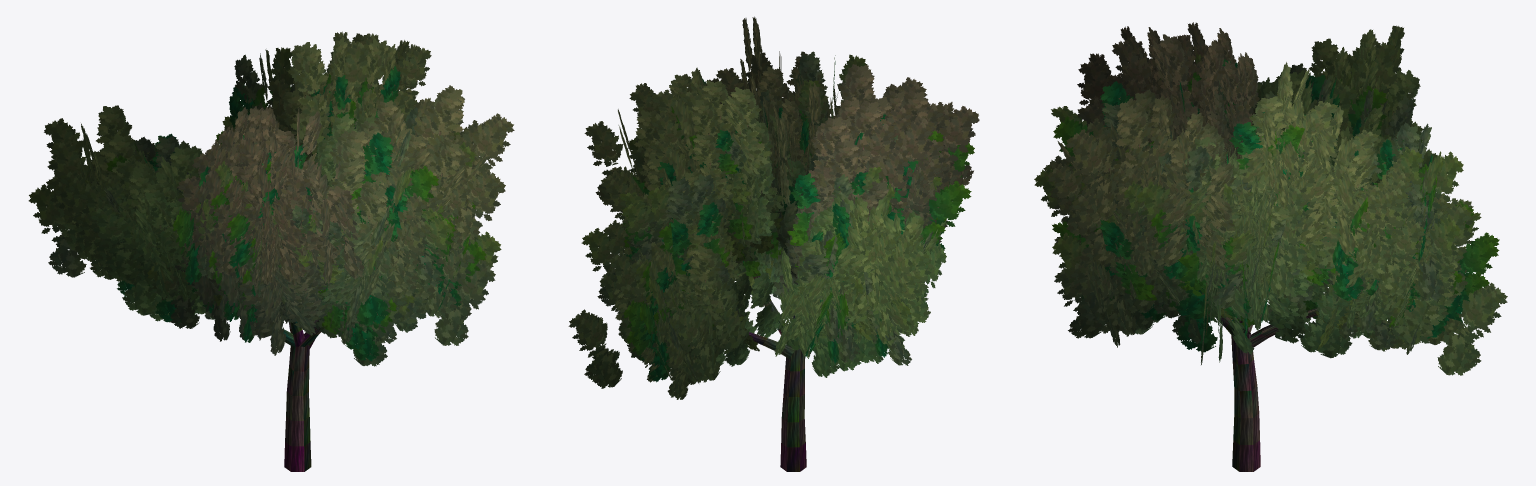
The model's file is nat_oak_c_LOD1.glb.
3 renders of one model, left to right at view 1: azimuth 30°, elevation 25°; view 2: azimuth 150°, elevation 25°; view 3: azimuth 270°, elevation 25°, orthographic. The views are drawn at different scales.
Visible parts, largest first — view 1: nat_oak_c_LOD1; view 2: nat_oak_c_LOD1; view 3: nat_oak_c_LOD1.
Boxes of the visible parts, bbox=[...] form: nat_oak_c_LOD1: bbox=[28, 31, 514, 471]; nat_oak_c_LOD1: bbox=[568, 16, 979, 471]; nat_oak_c_LOD1: bbox=[1034, 22, 1507, 471].
Bounding box in the file's own units: 11.34 × 11.18 × 11.88.
Materials: 2 (2 with a texture image).
